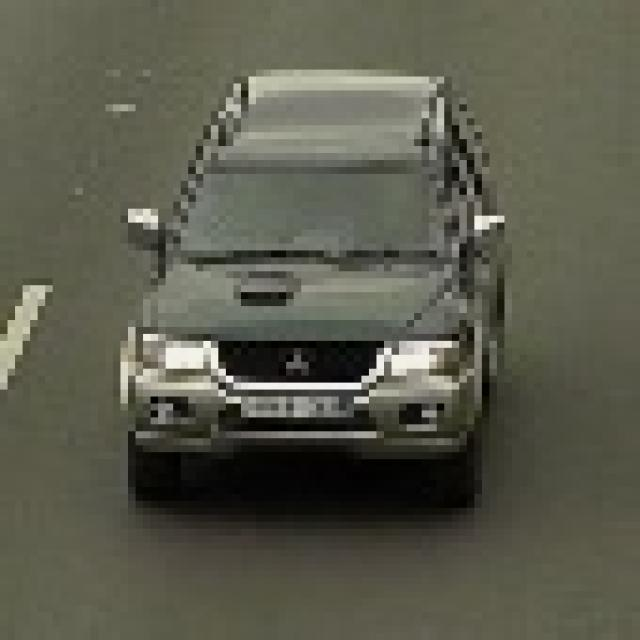SUV: (156, 80, 491, 508)
